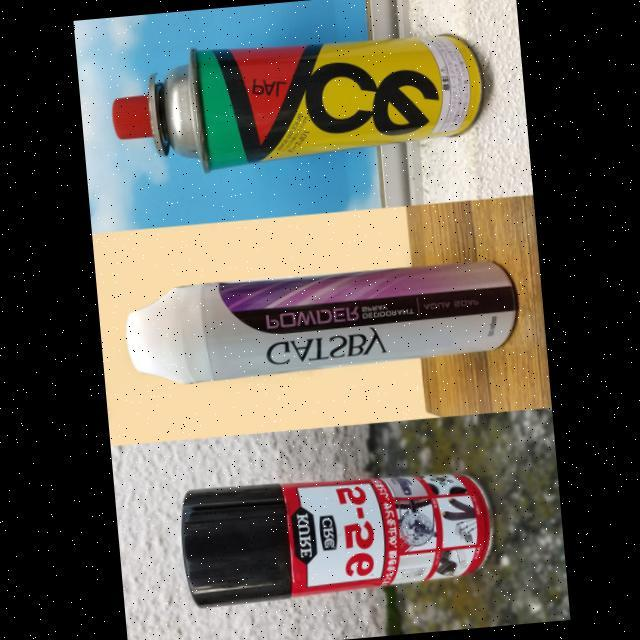chemical_spray_can: (109, 226, 539, 406), (100, 6, 502, 198), (160, 438, 508, 630)
